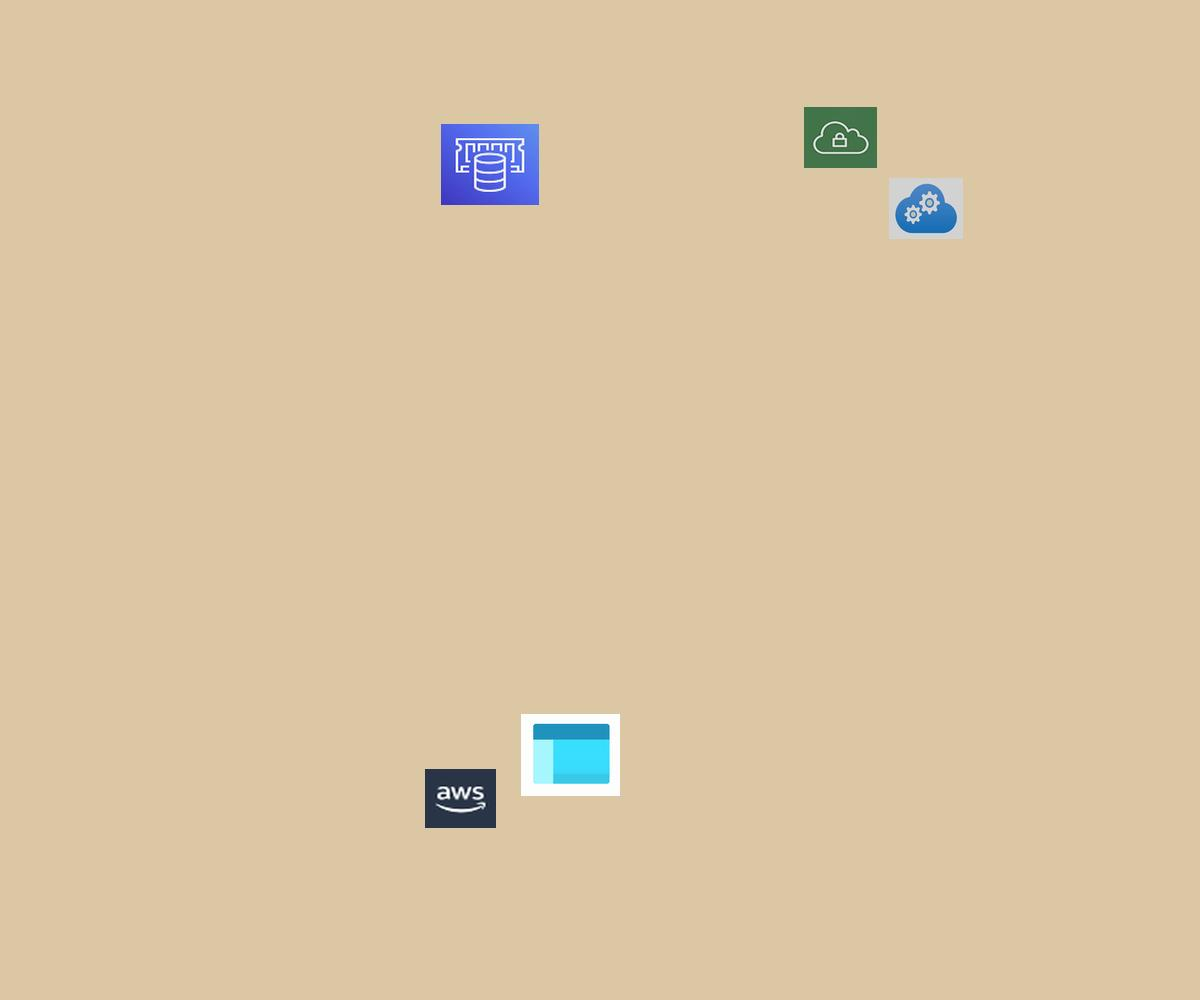AWS-Cloud-logo: (425, 769, 496, 828)
AWS-ElastiCache: (441, 124, 539, 205)
AWS-Private_vpc: (804, 107, 877, 168)
Azure_cloud_services: (889, 178, 963, 239)
Azure_management-portal: (521, 714, 620, 796)
